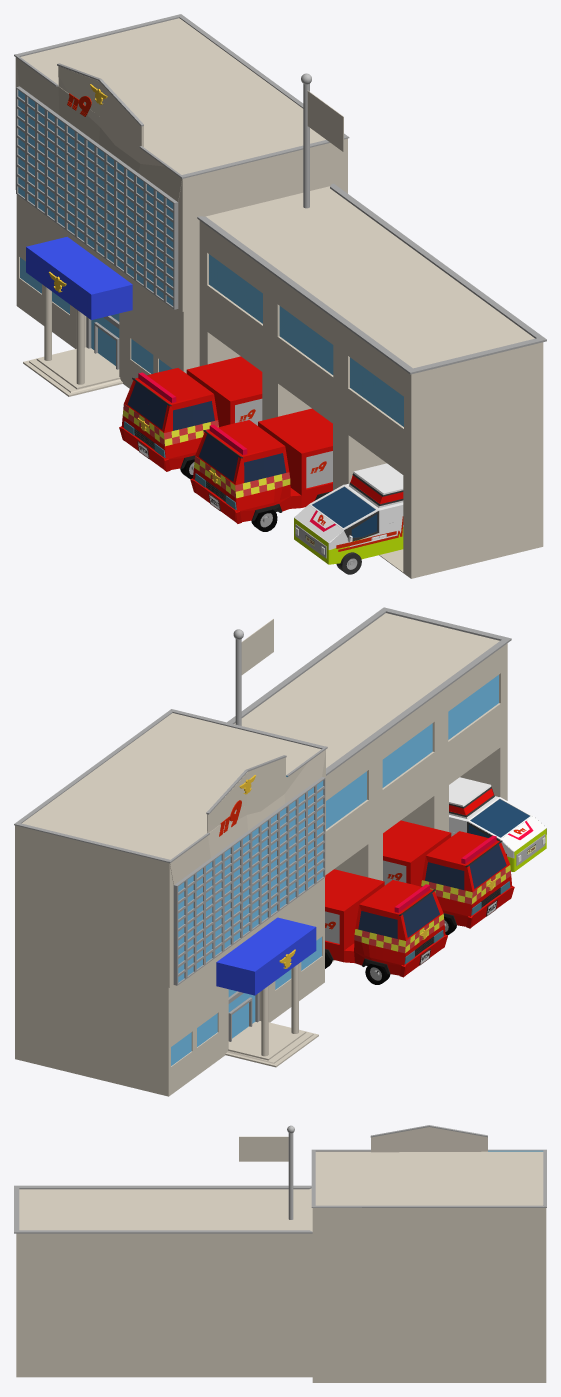
The model's file is Fire_station.fbx.
3 views of the same model, one above another, from view 1: azimuth 30°, elevation 25°; view 2: azimuth 150°, elevation 25°; view 3: azimuth 270°, elevation 25° (orthographic). The views are drawn at different scales.
Visible parts, largest first — view 1: firestation, firecar2, firecar, ambulance, firestation.001, Sphere; view 2: firestation, firecar, firecar2, ambulance, firestation.001, Sphere; view 3: firestation, firestation.001, Sphere.
Part boxes in pixels (<box>): firestation: <box>14,14,546,578</box>; firecar2: <box>190,408,332,531</box>; firecar: <box>119,356,262,479</box>; ambulance: <box>294,463,403,574</box>; firestation.001: <box>307,90,343,151</box>; Sphere: <box>301,73,311,208</box>; firestation: <box>14,607,511,1096</box>; firecar: <box>325,869,447,984</box>; firecar2: <box>383,820,514,935</box>; ambulance: <box>449,777,546,871</box>; firestation.001: <box>241,619,273,674</box>; Sphere: <box>233,629,243,725</box>; firestation: <box>14,1125,546,1382</box>; firestation.001: <box>239,1136,288,1161</box>; Sphere: <box>287,1125,294,1219</box>.
Bounding box in the file's own units: 452 × 612 × 1242.
